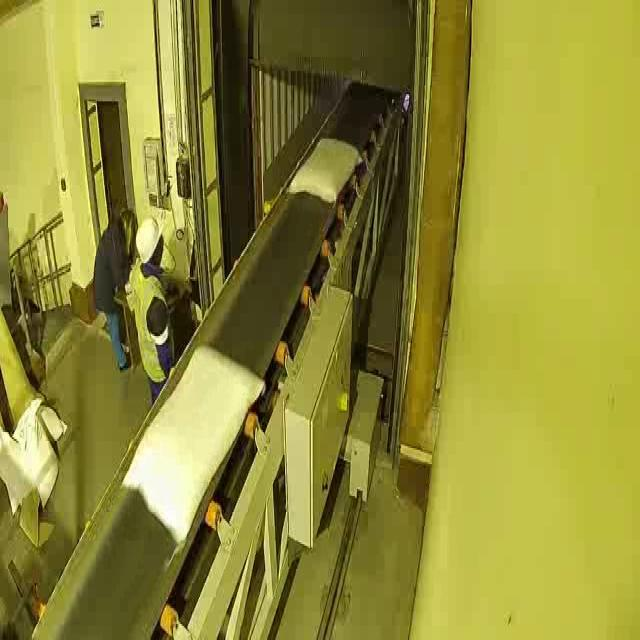bag: (121, 346, 266, 542), (286, 132, 363, 206)
